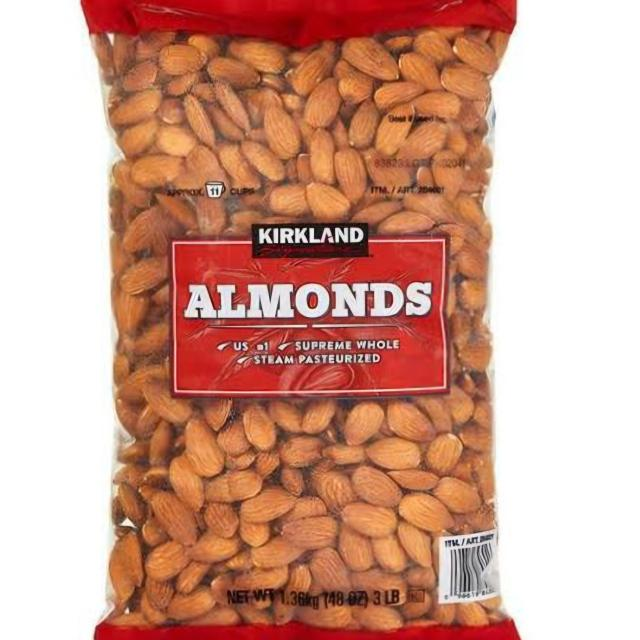food-package: (110, 3, 515, 627)
